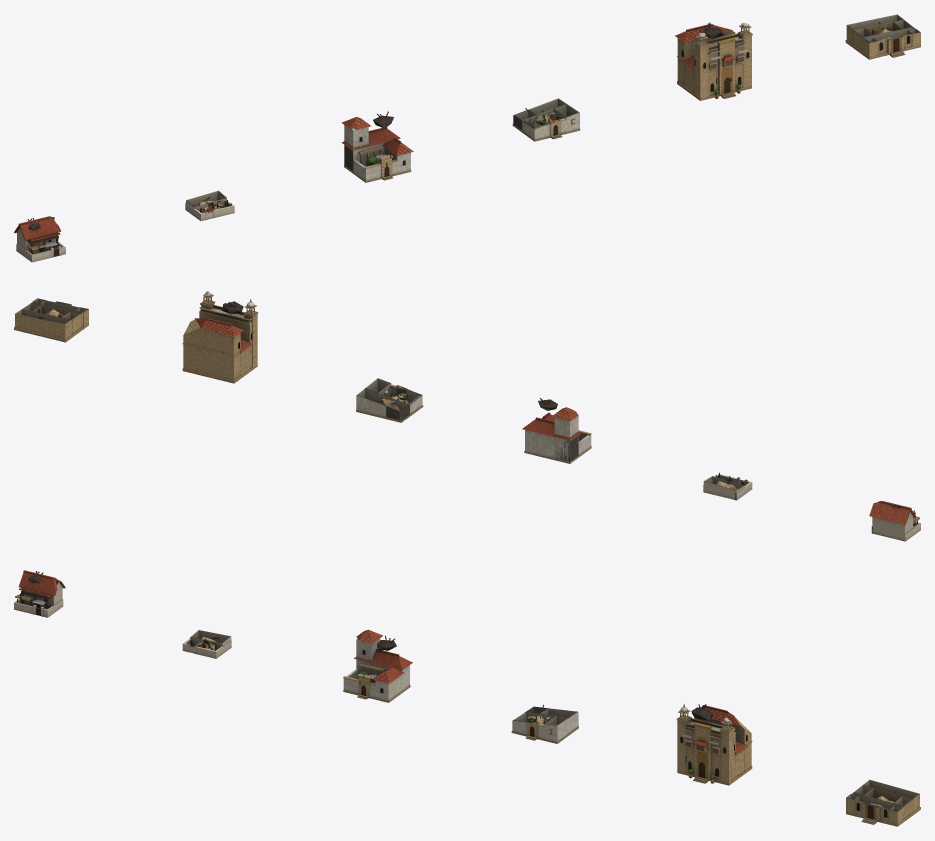
The model's file is kingdoms-indic-houses-damage.glb.
The picture shows the model from 3 angles, top to bottom: view 1: azimuth 30°, elevation 25°; view 2: azimuth 150°, elevation 25°; view 3: azimuth 330°, elevation 25°; orthographic projection.
Visible parts, largest first — view 1: LOD0.004, LOD0.002, LOD0.005, LOD0.003, LOD0, LOD0.001; view 2: LOD0.004, LOD0.002, LOD0.005, LOD0.003, LOD0, LOD0.001; view 3: LOD0.004, LOD0.002, LOD0.005, LOD0.003, LOD0, LOD0.001.
Part boxes in pixels (x1,y1,x2,y2): LOD0.004: [675, 22, 752, 100]; LOD0.002: [341, 111, 413, 182]; LOD0.005: [845, 14, 920, 59]; LOD0.003: [512, 98, 580, 141]; LOD0: [14, 216, 65, 262]; LOD0.001: [185, 190, 234, 221]; LOD0.004: [182, 291, 258, 383]; LOD0.002: [522, 398, 591, 463]; LOD0.005: [14, 298, 88, 342]; LOD0.003: [356, 378, 423, 422]; LOD0: [869, 501, 920, 541]; LOD0.001: [703, 473, 752, 500]; LOD0.004: [676, 704, 752, 785]; LOD0.002: [343, 629, 412, 702]; LOD0.005: [846, 779, 920, 826]; LOD0.003: [511, 704, 578, 743]; LOD0: [14, 570, 65, 617]; LOD0.001: [182, 630, 231, 658].
Size of what is drawn, in the model's own units: 15.79 by 1.17 by 0.87.
3 materials, 3 textured.
